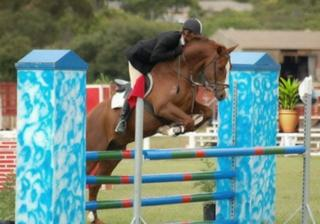horse: (86, 36, 239, 224)
person: (115, 19, 203, 136)
pottedplant: (279, 77, 298, 132)
